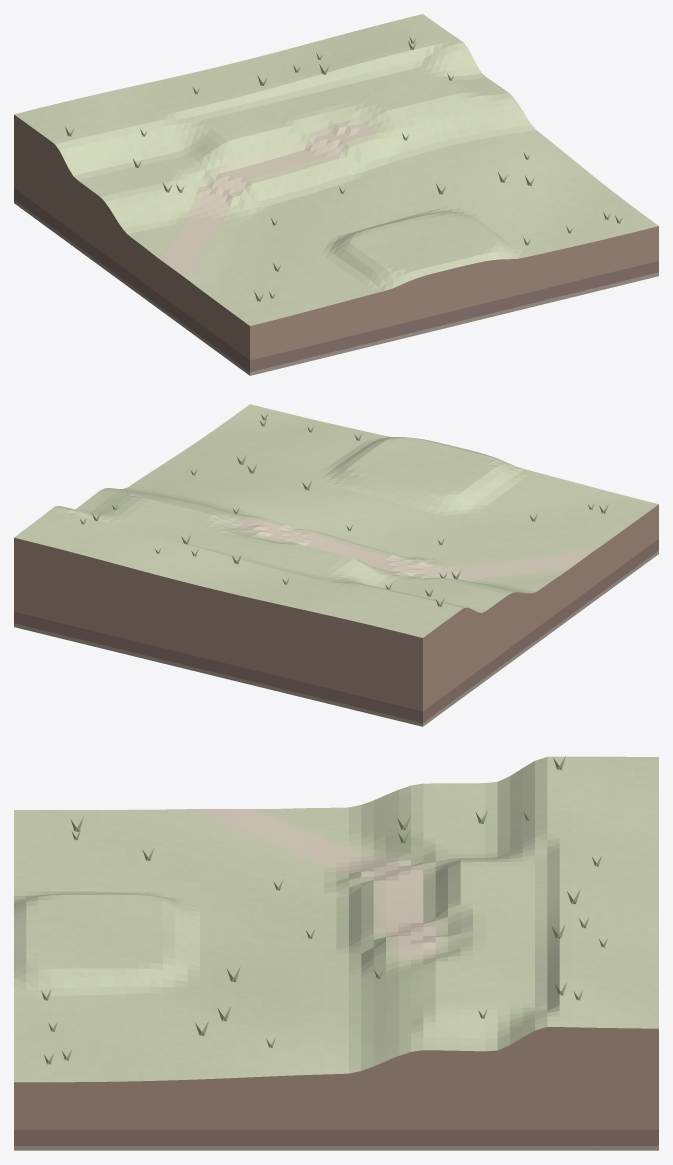
3 views of the same model, one above another, from view 1: azimuth 30°, elevation 25°; view 2: azimuth 150°, elevation 25°; view 3: azimuth 270°, elevation 25° (orthographic). The views are drawn at different scales.
Parts seen in each view (by area): view 1: proc_ground, proc_skirt, proc_grass; view 2: proc_ground, proc_skirt, proc_grass; view 3: proc_ground, proc_skirt, proc_grass.
Part boxes in pixels (left/top/right/bottom): proc_ground: left=14, top=14, right=658, bottom=325; proc_skirt: left=14, top=114, right=658, bottom=375; proc_grass: left=65, top=37, right=622, bottom=301; proc_ground: left=14, top=404, right=658, bottom=637; proc_skirt: left=14, top=504, right=658, bottom=726; proc_grass: left=80, top=413, right=608, bottom=606; proc_ground: left=14, top=756, right=658, bottom=1082; proc_skirt: left=14, top=1027, right=658, bottom=1150; proc_grass: left=41, top=756, right=607, bottom=1064.
Size of the model in its own units: 8 by 1.87 by 8.
